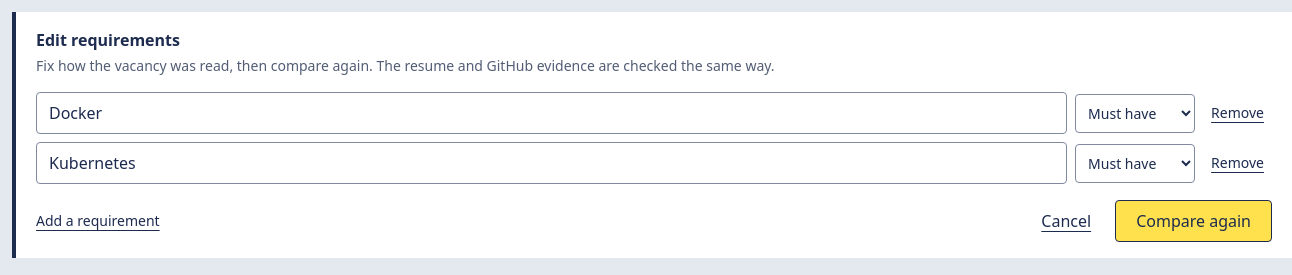
Test: editing the requirements › compares again with the corrected list and opens the new report
Click the button with aria-label "Remove requirement 2" at (1238, 163), box [1203,145,1272,181]
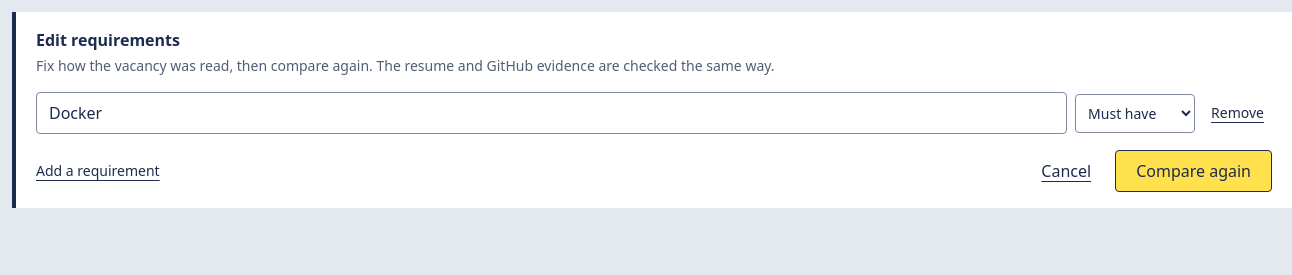
Click the button "Add a requirement" at (98, 171), box [36,161,160,181]
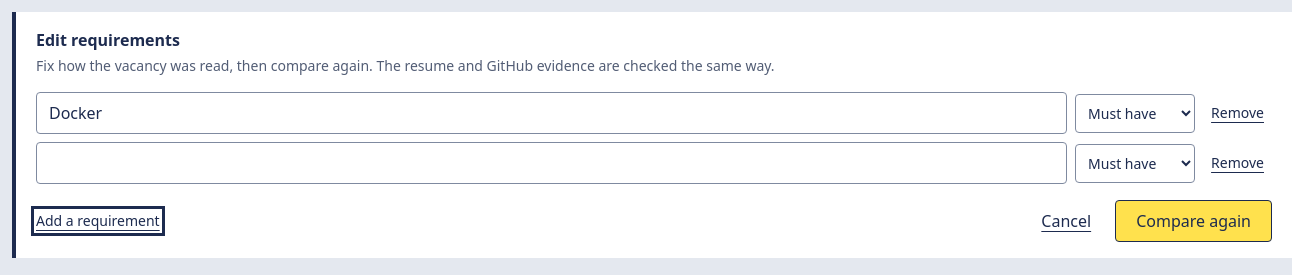
Type "  Terraform  " into the field named "Requirement 2" at (552, 163), box [36,142,1067,184]
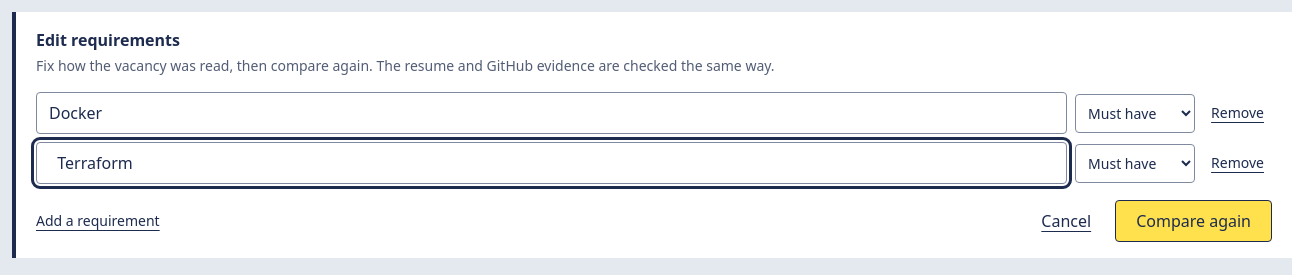
Select "Nice to have" in the dropdown named "Importance of requirement 2" at (1135, 163), box [1075,144,1195,182]
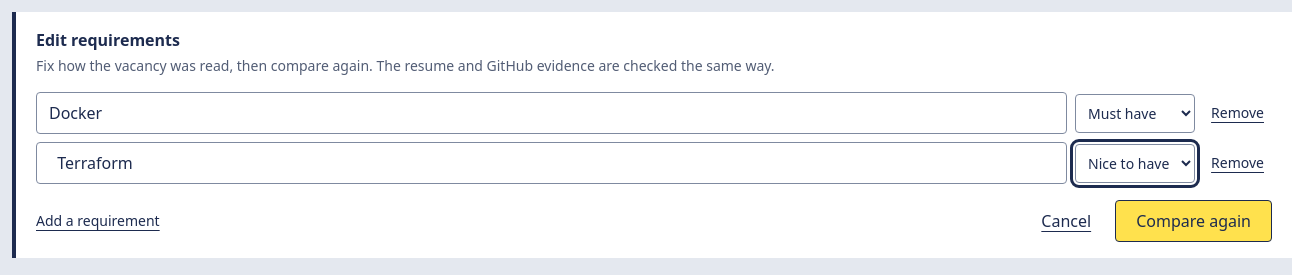
Click the button "Compare again" at (1194, 221), box [1115,200,1272,242]
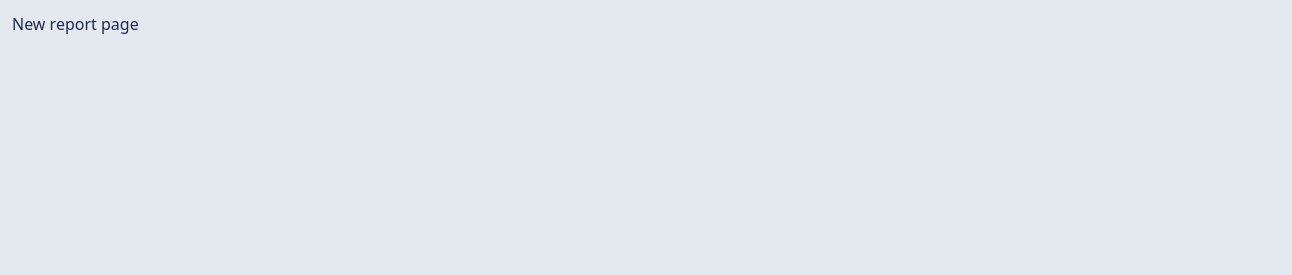
Expected: the text "New report page" is shown, [12,13,139,35]
